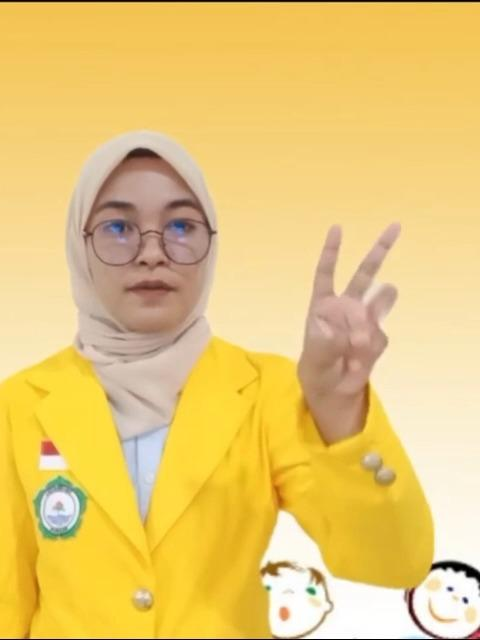W: (296, 219, 402, 395)
